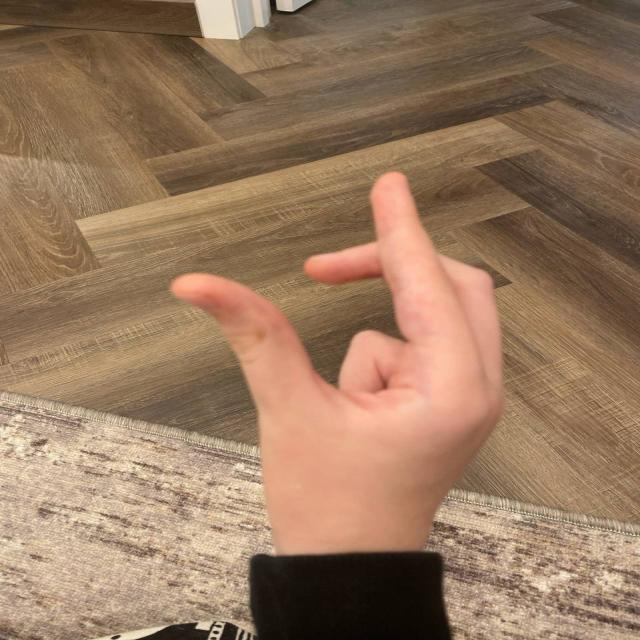b: (160, 168, 504, 478)
